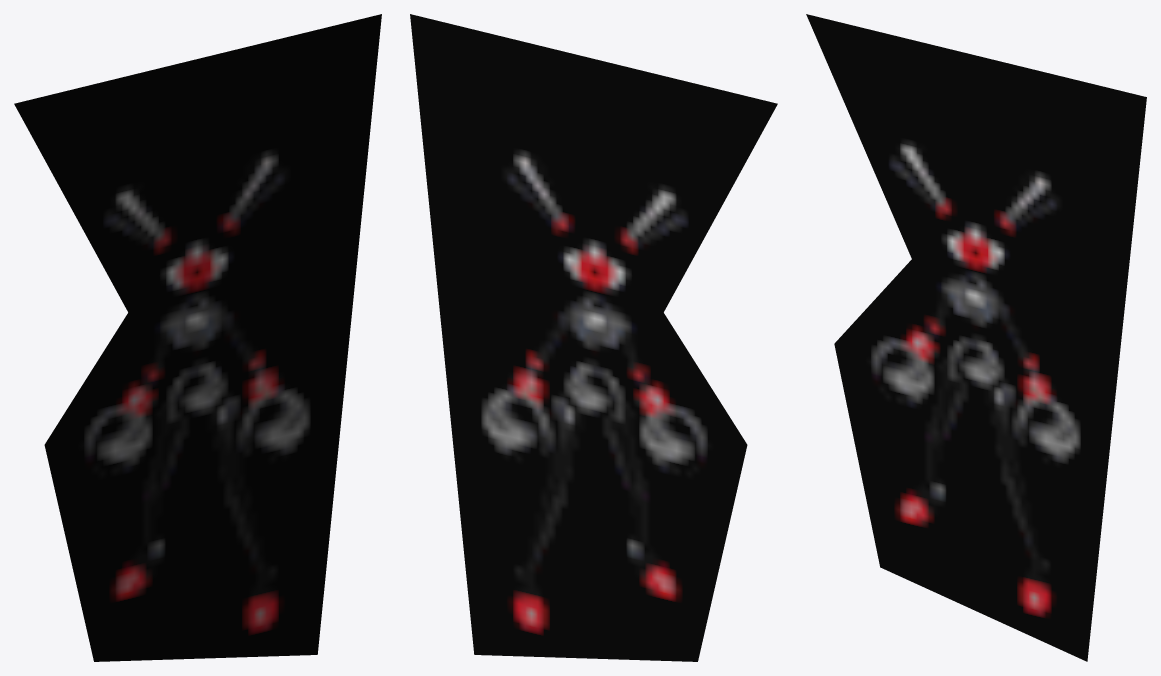
3 views of the same model, side by side, from view 1: azimuth 30°, elevation 25°; view 2: azimuth 150°, elevation 25°; view 3: azimuth 330°, elevation 25° (orthographic). The views are drawn at different scales.
Visible parts, largest first — view 1: Joint_0_Object_0; view 2: Joint_0_Object_0; view 3: Joint_0_Object_0.
Part boxes in pixels (<box>): Joint_0_Object_0: <box>14,14,381,661</box>; Joint_0_Object_0: <box>410,14,777,661</box>; Joint_0_Object_0: <box>806,14,1146,661</box>.
Bounding box in the file's own units: 58.23 × 94.55 × 0.
1 material, 1 textured.
